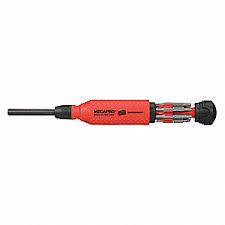screwdriver: (6, 98, 156, 124)
